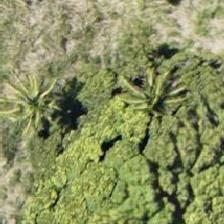coconut_tree: (104, 50, 194, 140), (0, 59, 86, 149)
